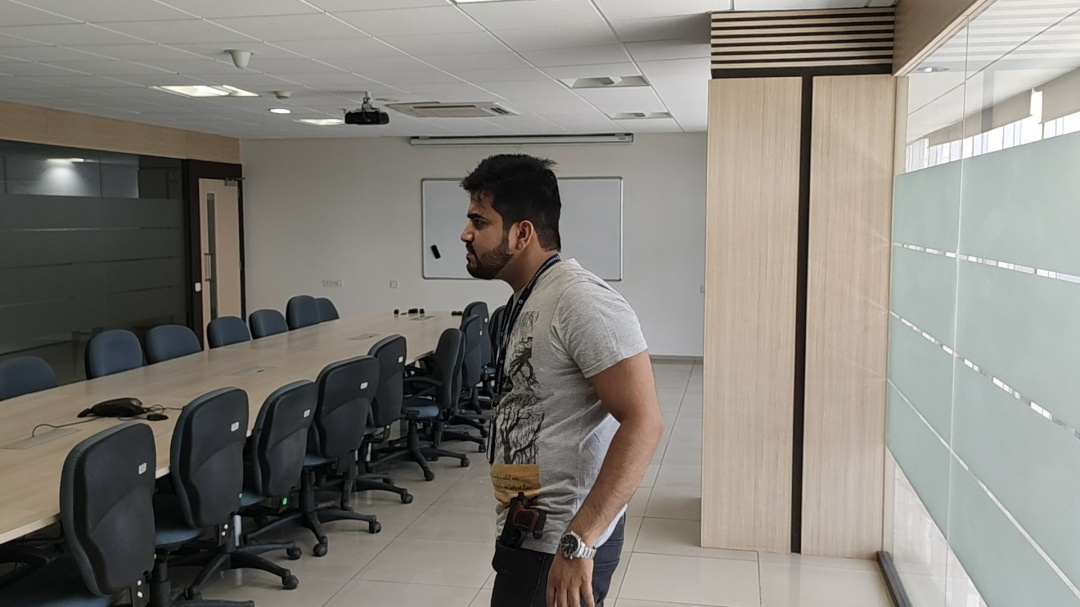gun: (504, 486, 553, 570)
